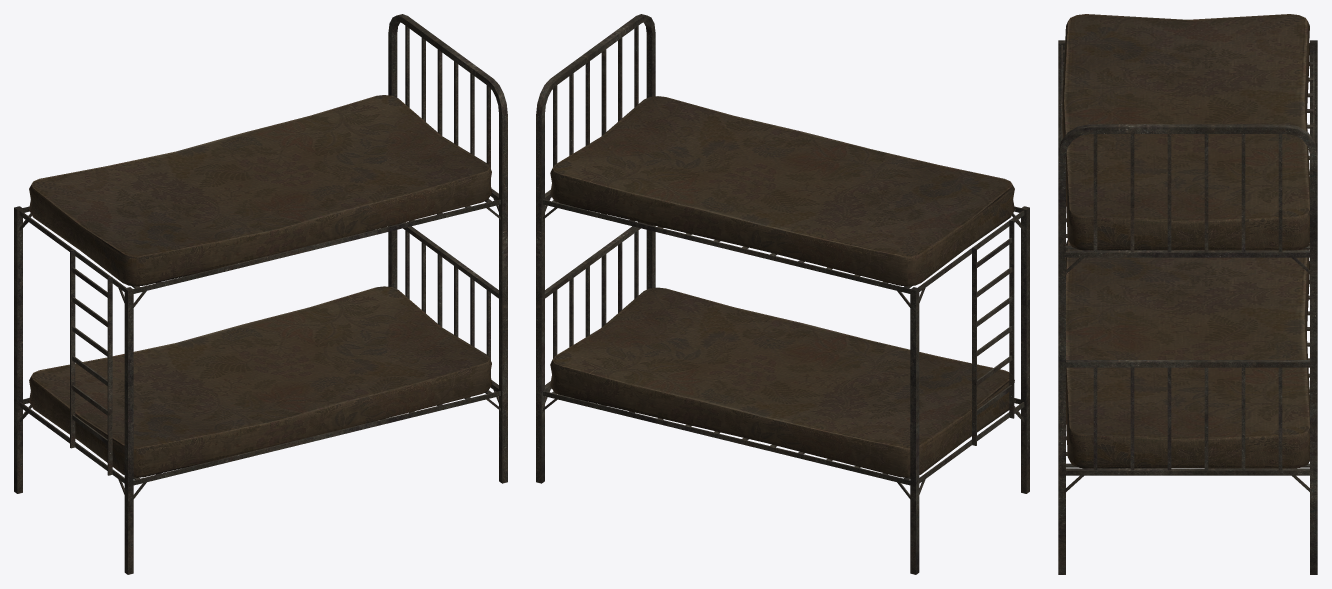
File: bed_2.obj
The picture shows the model from 3 angles, left to right: view 1: azimuth 30°, elevation 25°; view 2: azimuth 150°, elevation 25°; view 3: azimuth 270°, elevation 25°; orthographic projection. The views are drawn at different scales.
Parts seen in each view (by area): view 1: bed_2; view 2: bed_2; view 3: bed_2.
Boxes of the visible parts, x1,y1,x2,y2 form: bed_2: (14, 14, 507, 574); bed_2: (536, 14, 1029, 574); bed_2: (1058, 14, 1317, 574).
Size of the model in its own units: 2.72 by 2.67 by 1.4.
